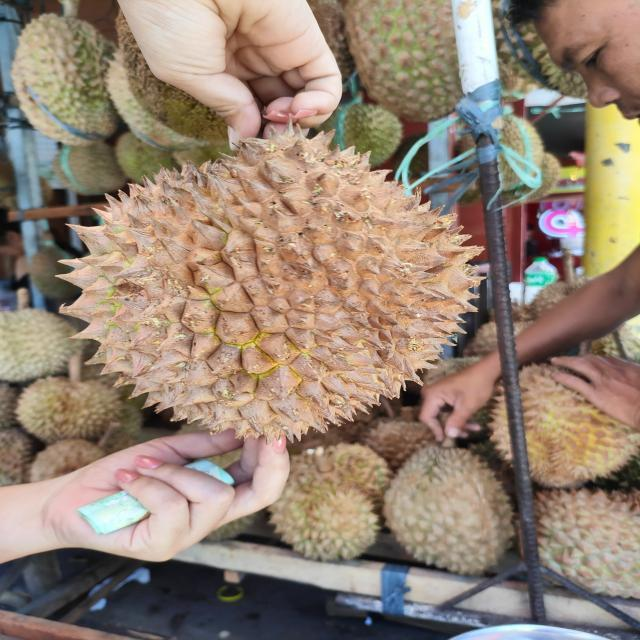mature: (54, 116, 488, 450)
